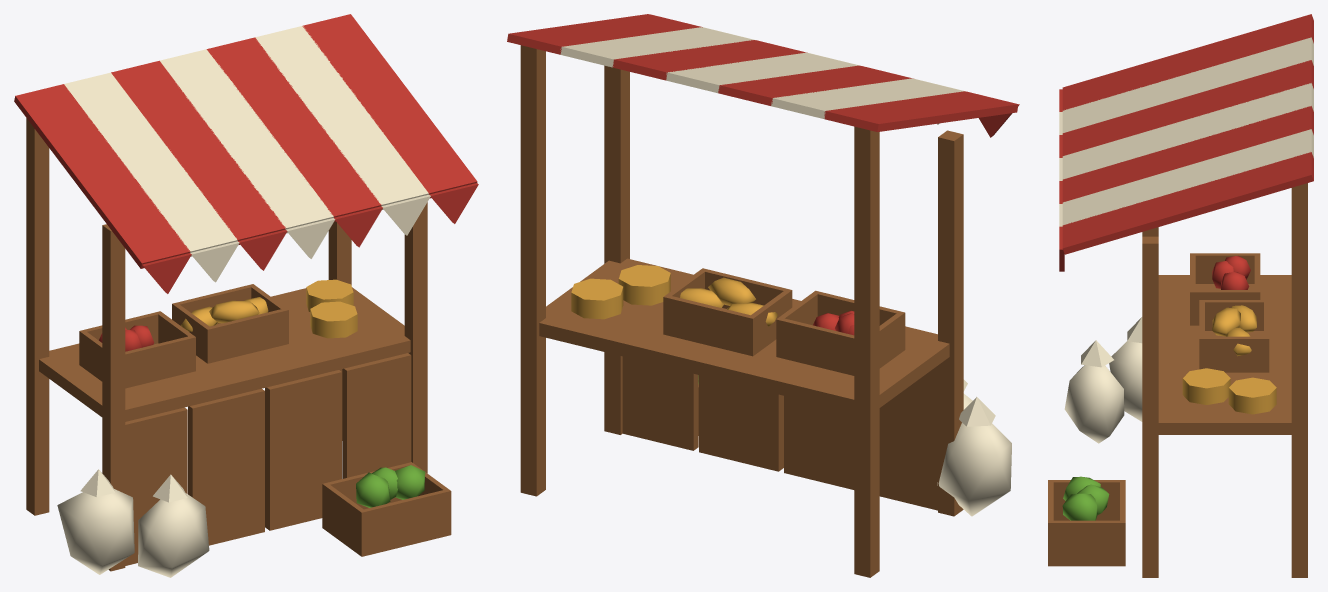
The model's file is market_stall.glb.
The picture shows the model from 3 angles, left to right: view 1: azimuth 30°, elevation 25°; view 2: azimuth 150°, elevation 25°; view 3: azimuth 270°, elevation 25°; orthographic projection. The views are drawn at different scales.
Visible parts, largest first — view 1: market_stall; view 2: market_stall; view 3: market_stall.
Part boxes in pixels (x1,y1,x2,y2): market_stall: (14,14,478,577); market_stall: (507,14,1019,577); market_stall: (1048,14,1313,577).
Bounding box in the file's own units: 2.27 × 2.45 × 1.44.
